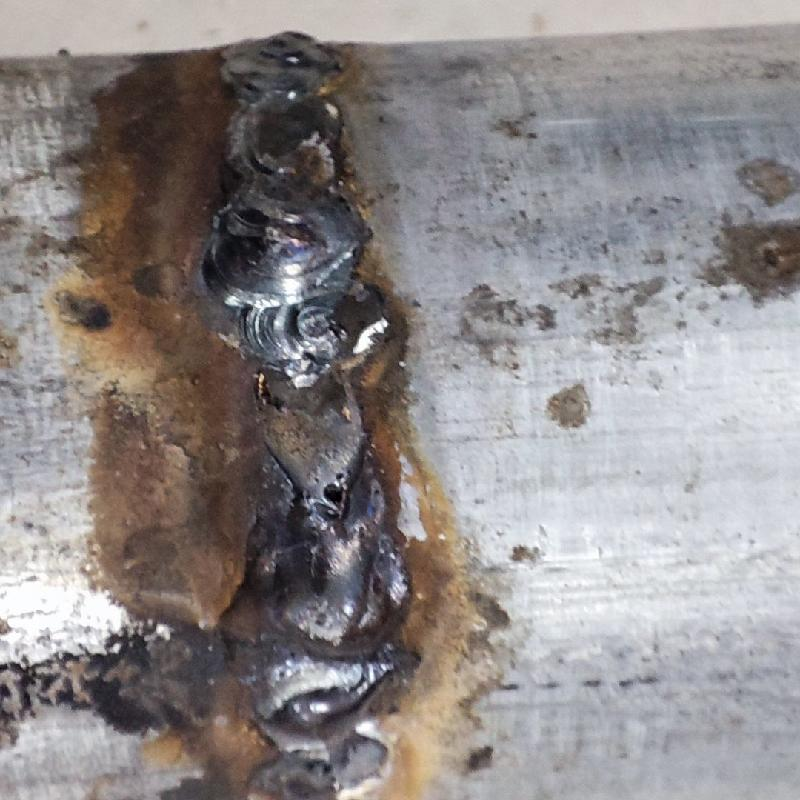Surface_pores: (308, 462, 357, 518)
